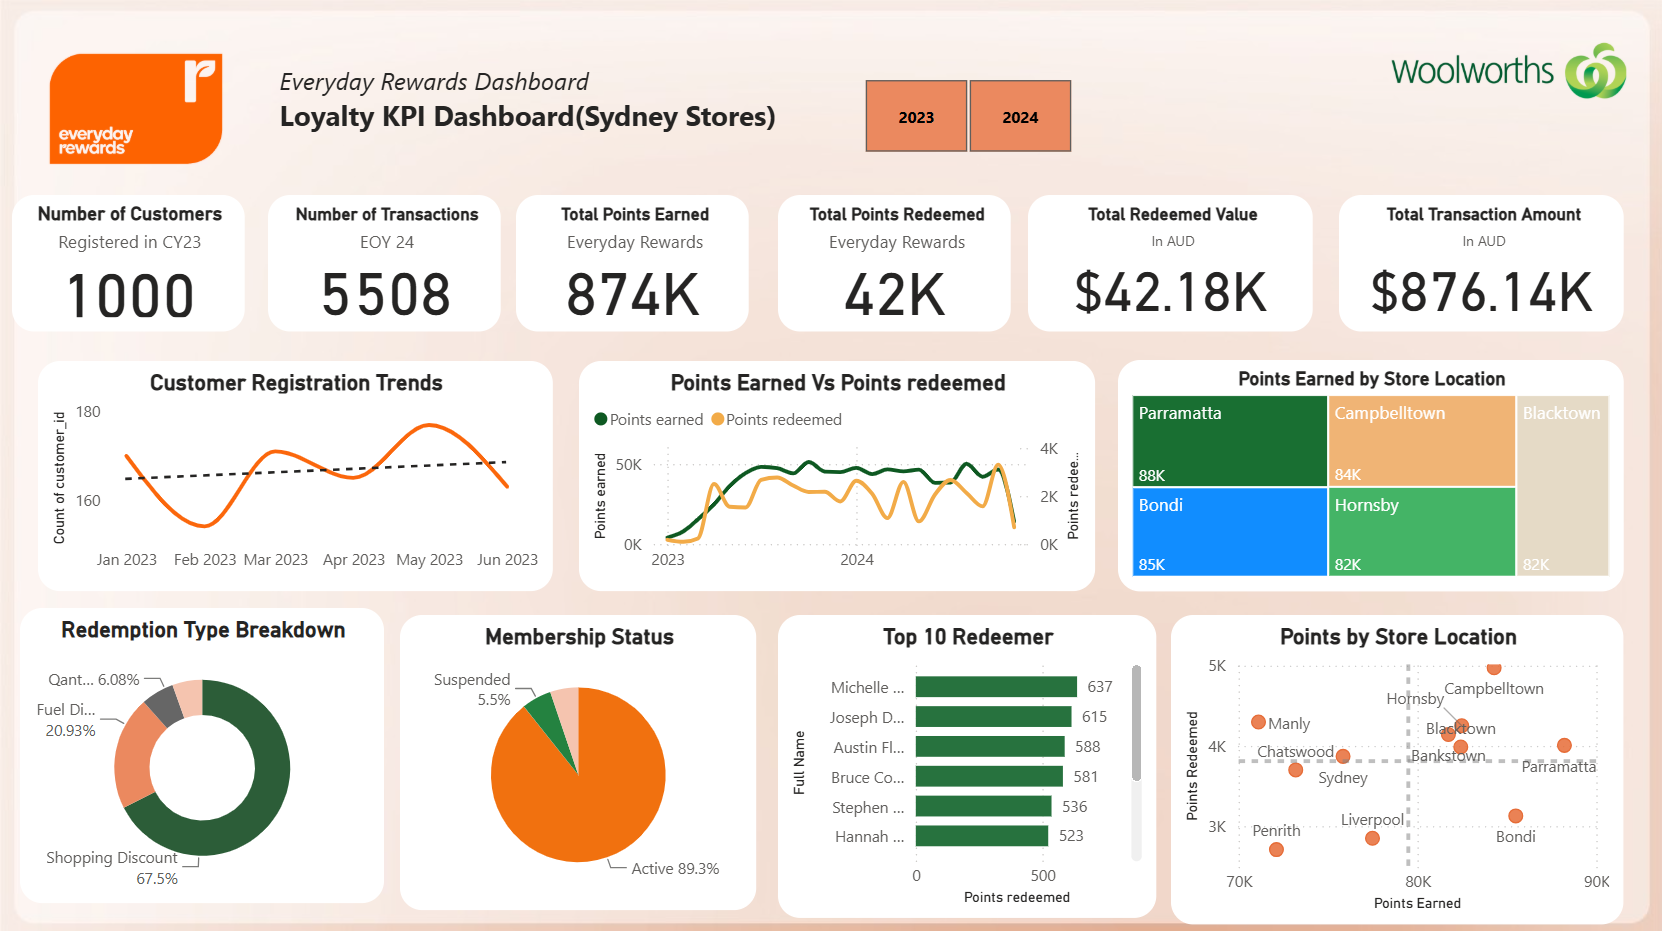

The page's visual inventory and layout, read from the dashboard file:
{"tool":"powerbi","page":{"name":"Page 1","canvas":[1280,720],"ordinal":0},"visuals":[{"type":"image","box":[9.5,36.2,190.6,97.5],"z":0},{"type":"image","box":[1039.8,21.4,240.2,67.1],"z":1000},{"type":"textbox","box":[210.1,44.7,429.9,79.8],"z":2000},{"type":"card","title":"Number of Customers","fields":{"Values":["CountNonNull(wool_customers.customer_id)"]},"box":[9.5,150.9,179.4,105.2],"z":3000},{"type":"card","title":"Number of Transactions","fields":{"Values":["Count(wool_transactions.transaction_id)"]},"box":[206.1,150.9,179.4,105.2],"z":4000},{"type":"card","title":"Total Points Earned","fields":{"Values":["Sum(wool_transactions.points_earned)"]},"box":[396.8,150.9,179.4,105.2],"z":5000},{"type":"card","title":"Total Points Redeemed","fields":{"Values":["Sum(wool_transactions.points_redeemed)"]},"box":[598.6,150.9,179.4,105.2],"z":6000},{"type":"card","title":"Total Redeemed Value","fields":{"Values":["Sum(wool_transactions.redemption_value)"]},"box":[790.9,150.9,219.1,105.2],"z":7000},{"type":"card","title":"Total Transaction Amount","fields":{"Values":["Sum(wool_transactions.transaction_amount)"]},"box":[1029.9,150.9,219.1,105.2],"z":8000},{"type":"lineChart","title":"Customer Registration Trends","fields":{"Category":["wool_customers.registration_date.Variation.Date Hierarchy.Year","wool_customers.registration_date.Variation.Date Hierarchy.Month"],"Y":["CountNonNull(wool_customers.customer_id)"]},"box":[29.3,278.6,395.9,176.8],"z":9000},{"type":"lineChart","title":"Points Earned Vs Points redeemed","fields":{"Category":["wool_transactions.transaction_date.Variation.Date Hierarchy.Year","wool_transactions.transaction_date.Variation.Date Hierarchy.Month"],"Y":["Sum(wool_transactions.points_earned)"],"Y2":["Sum(wool_transactions.points_redeemed)"]},"box":[445.1,278.6,396.8,176.8],"z":10000},{"type":"donutChart","title":"Redemption Type Breakdown","fields":{"Category":["wool_transactions.redemption_type"],"Y":["Sum(wool_transactions.points_redeemed)"]},"box":[15.5,468.4,280.3,226.8],"z":11000},{"type":"pieChart","title":"Membership Status","fields":{"Category":["wool_customers.membership_status"],"Y":["CountNonNull(wool_customers.customer_id)"]},"box":[307.9,473.5,274.3,226.8],"z":12000},{"type":"scatterChart","title":"Points by Store Location","fields":{"Category":["wool_transactions.store_location"],"X":["Sum(wool_transactions.points_earned)"],"Y":["Sum(wool_transactions.points_redeemed)"]},"box":[900.7,473.7,348.2,238.3],"z":13000},{"type":"treemap","title":"Points Earned by Store Location","fields":{"Group":["wool_transactions.store_location"],"Values":["Sum(wool_transactions.points_earned)"]},"box":[859.9,277.7,389,177.7],"z":14000},{"type":"barChart","title":"Top 10 Redeemer","fields":{"Category":["wool_customers.Full Name"],"Y":["Sum(wool_transactions.points_redeemed)"]},"box":[598.2,473.7,290.8,233.4],"z":15000},{"type":"slicer","fields":{"Values":["wool_transactions.transaction_date.Variation.Date Hierarchy.Year"]},"box":[640,55.2,207.9,69],"z":16000}]}

Visuals, with their boxes in screenshot pixels (x1, y1, x2, y2), scaled from the page's 1280x720 canvas onto the 1662x931 screenshot:
image: select_region(12, 47, 260, 173)
image: select_region(1350, 28, 1661, 114)
textbox: select_region(273, 58, 831, 161)
"Number of Customers" card: select_region(12, 195, 245, 331)
"Number of Transactions" card: select_region(268, 195, 501, 331)
"Total Points Earned" card: select_region(515, 195, 748, 331)
"Total Points Redeemed" card: select_region(777, 195, 1010, 331)
"Total Redeemed Value" card: select_region(1027, 195, 1311, 331)
"Total Transaction Amount" card: select_region(1337, 195, 1622, 331)
"Customer Registration Trends" lineChart: select_region(38, 360, 552, 589)
"Points Earned Vs Points redeemed" lineChart: select_region(578, 360, 1093, 589)
"Redemption Type Breakdown" donutChart: select_region(20, 606, 384, 899)
"Membership Status" pieChart: select_region(400, 612, 756, 906)
"Points by Store Location" scatterChart: select_region(1170, 613, 1622, 921)
"Points Earned by Store Location" treemap: select_region(1117, 359, 1622, 589)
"Top 10 Redeemer" barChart: select_region(777, 613, 1154, 914)
slicer - wool_transactions.transaction_date.Variation.Date Hierarchy.Year: select_region(831, 71, 1101, 161)
